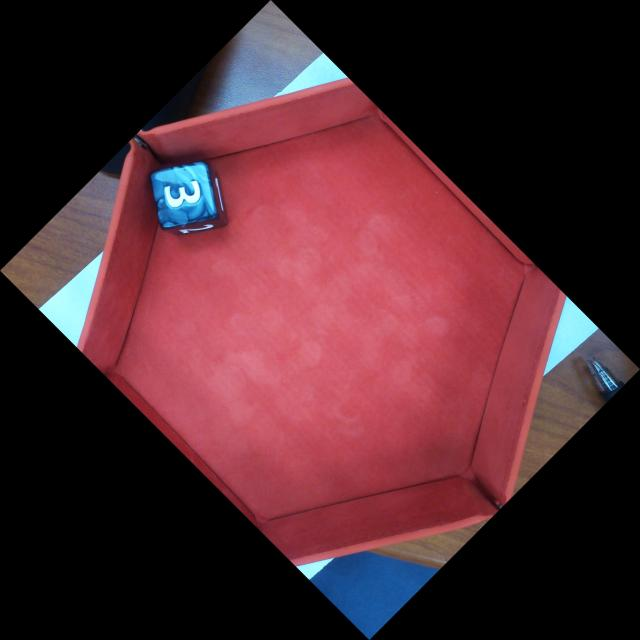dice: (149, 159, 220, 231)
